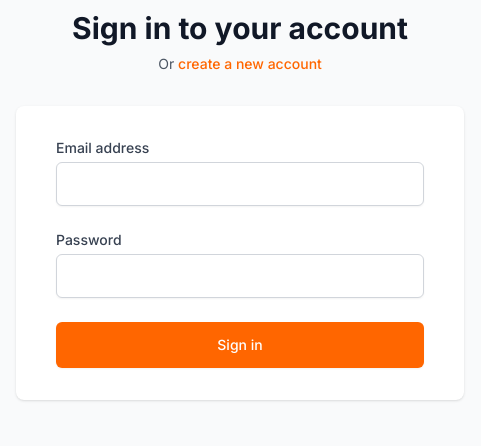
Scenario: Login Page › Form Validation › should show error when password is empty
Type "test@example.com" into the field labelled "Email address" at (240, 184), box top-left (56, 162), bottom-right (424, 206)
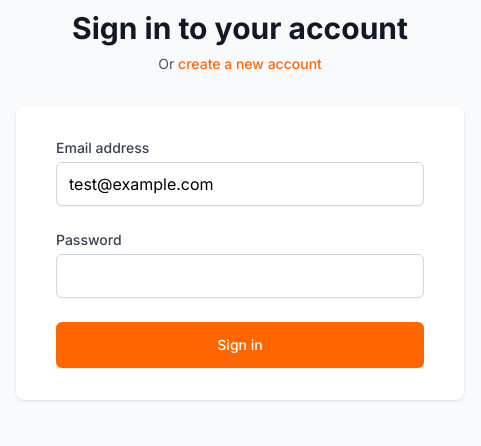
Click the button "Sign in" at (240, 345), box top-left (56, 322), bottom-right (424, 368)
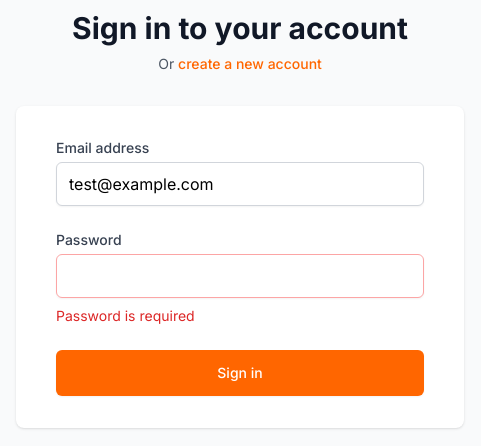
Expected: the text "Password is required" is shown, top-left (56, 307), bottom-right (195, 324)
